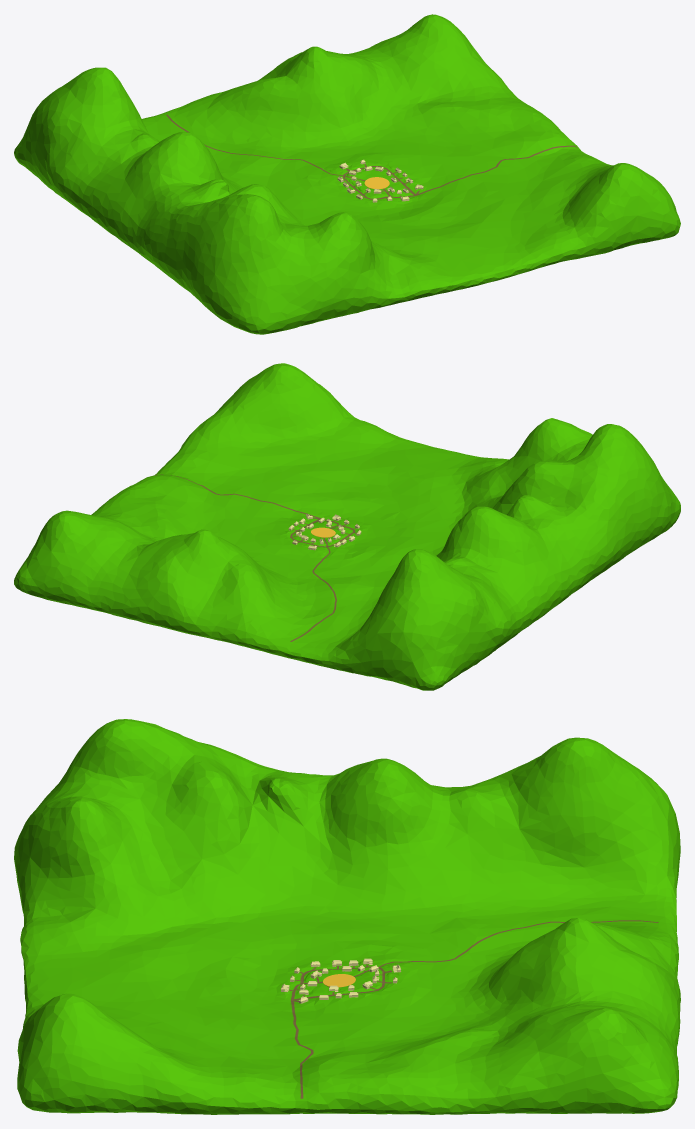
Rendered from scena_test.fbx.
3 views of the same model, one above another, from view 1: azimuth 30°, elevation 25°; view 2: azimuth 150°, elevation 25°; view 3: azimuth 270°, elevation 25° (orthographic). The views are drawn at different scales.
Visible parts, largest first — view 1: Landscape_LP, ścieżka.001; view 2: Landscape_LP, ścieżka.001; view 3: Landscape_LP, ścieżka.001.
Part boxes in pixels (<box>): Landscape_LP: <box>14,14,680,334</box>; ścieżka.001: <box>166,114,577,199</box>; Landscape_LP: <box>14,363,680,690</box>; ścieżka.001: <box>155,474,356,641</box>; Landscape_LP: <box>14,719,680,1114</box>; ścieżka.001: <box>289,920,658,1098</box>.
Size of the model in its own units: 83382 by 19794 by 80791.
